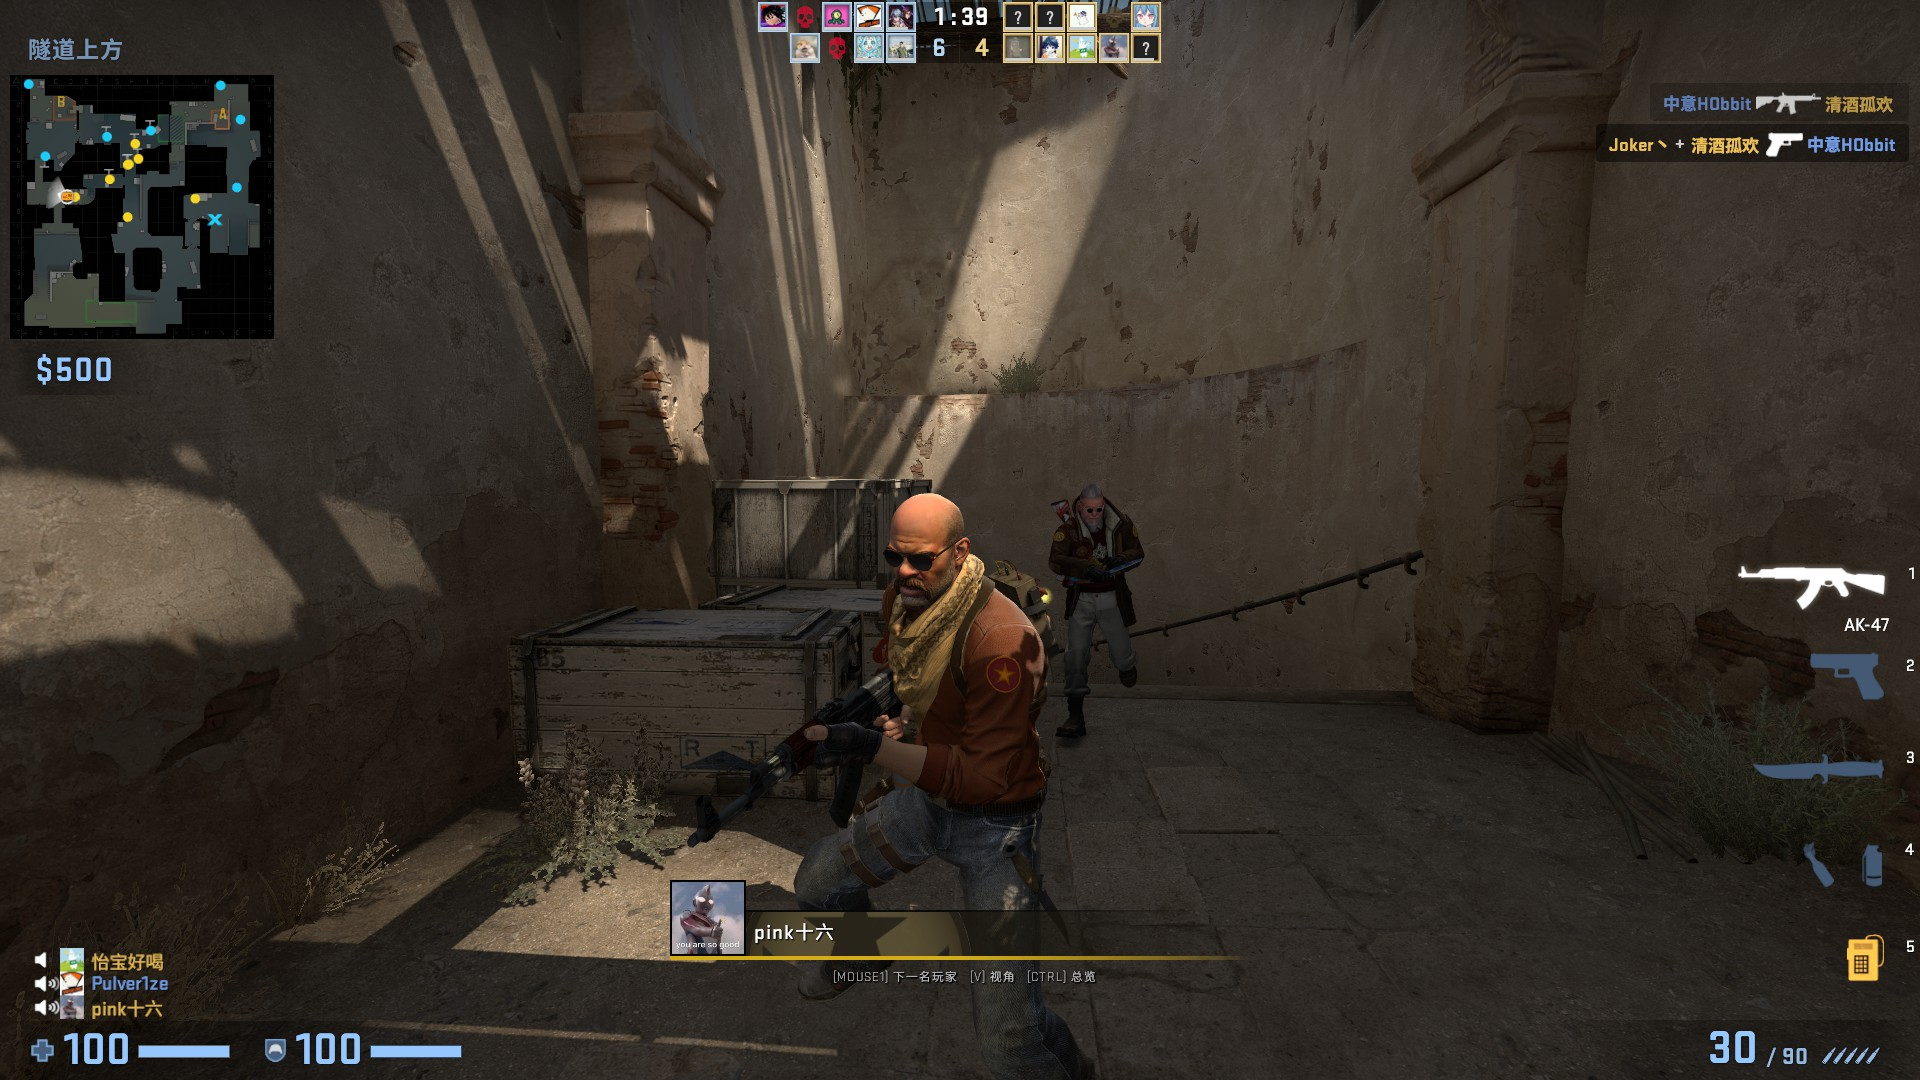head: (886, 490, 967, 605), (1077, 482, 1107, 534)
